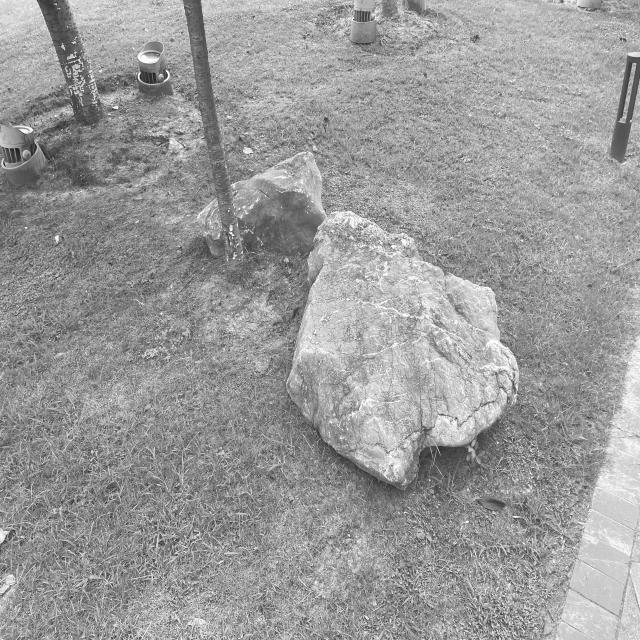Stone: (288, 211, 518, 488), (233, 153, 325, 255)
